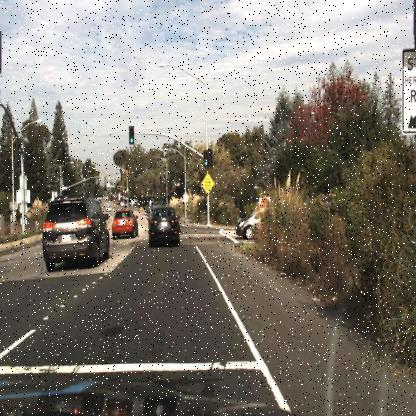car: (40, 191, 110, 275), (146, 206, 180, 246), (236, 208, 265, 240), (110, 207, 138, 240)
trafficLight-Green: (126, 122, 136, 144), (203, 148, 211, 171)
